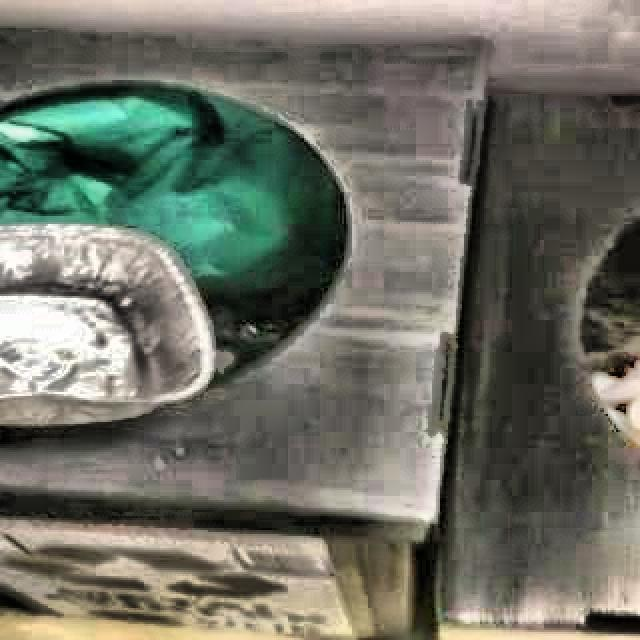metal: (0, 224, 213, 426)
